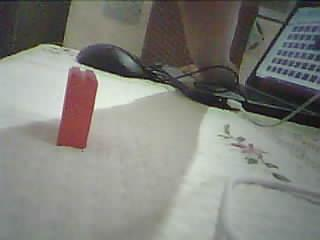lego: (54, 65, 98, 148)
